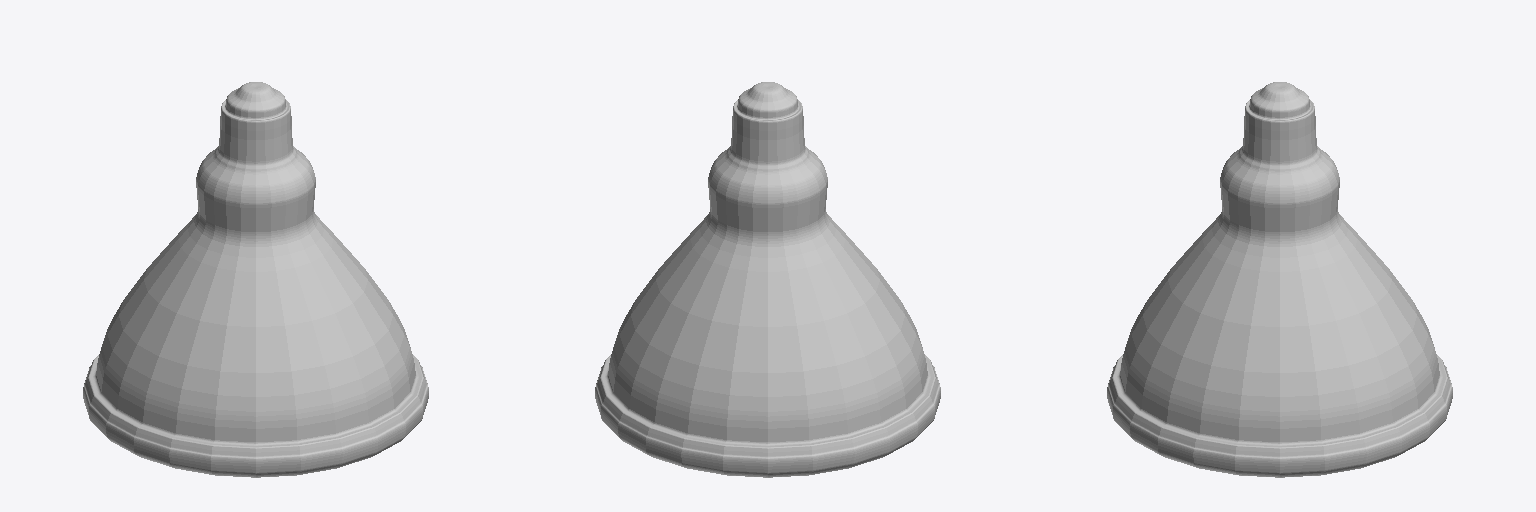
The model's file is light_leftback.obj.
The picture shows the model from 3 angles: view 1: azimuth 30°, elevation 25°; view 2: azimuth 150°, elevation 25°; view 3: azimuth 270°, elevation 25°; orthographic projection.
Parts seen in each view (by area): view 1: Sealed_Beam002; view 2: Sealed_Beam002; view 3: Sealed_Beam002.
Part boxes in pixels (x1,y1,x2,y2): Sealed_Beam002: (83,82,428,477); Sealed_Beam002: (595,82,940,477); Sealed_Beam002: (1107,82,1452,477).
Size of the model in its own units: 29.31 by 31.69 by 29.31.